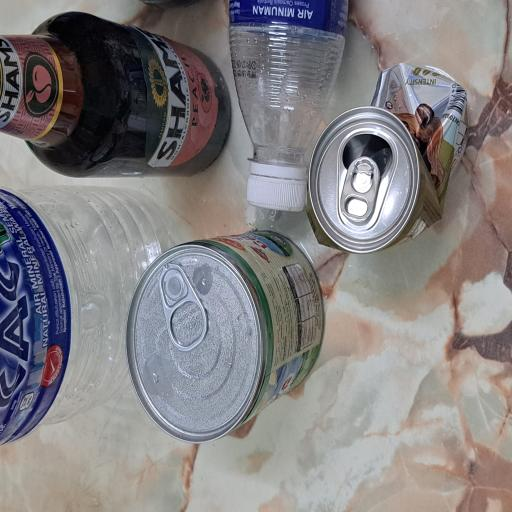can: (50, 167, 213, 432), (192, 409, 339, 512)
glass bottle: (247, 0, 377, 308)
plastic bottle: (50, 0, 243, 240), (264, 306, 384, 466)
plastic bottle cap: (222, 326, 254, 412)
pop tab: (121, 210, 189, 274), (216, 451, 269, 508)
